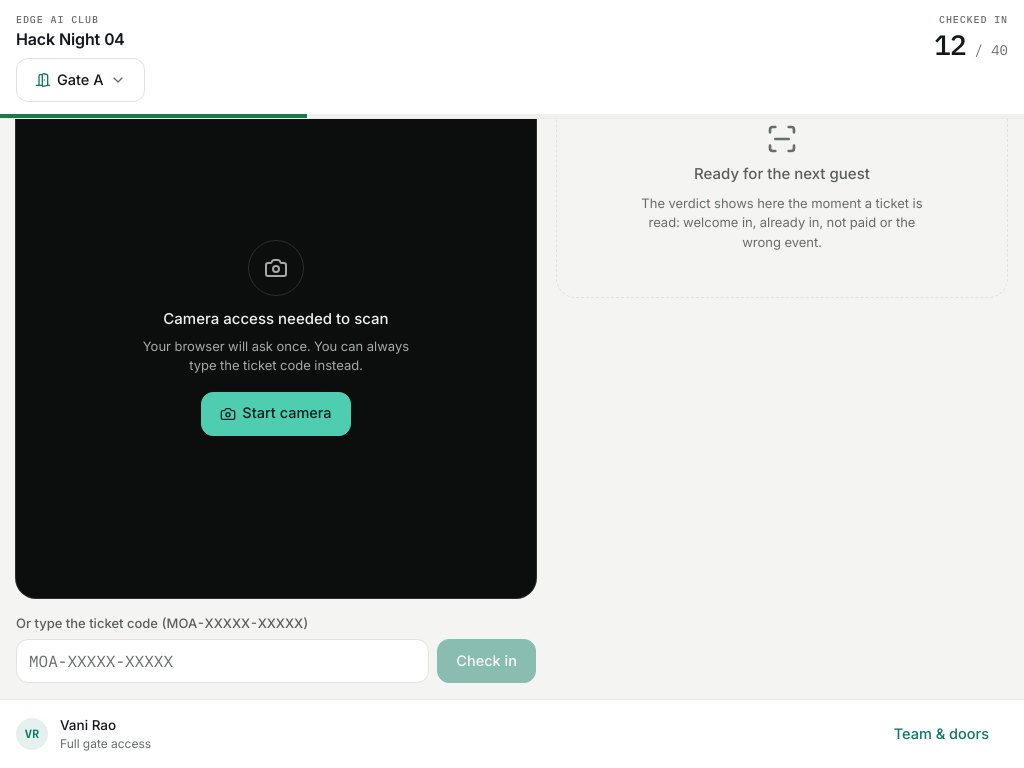
the gate console › will not admit on an admission number, but offers to check its holder in by hand
The image size is (1024, 768).
(page scrolled)
Step 1. Type "MOA-0042-E123" into the field labelled "Or type the ticket code (MOA-XXXXX-XXXXX)" → (223,661), box [16, 639, 429, 683]
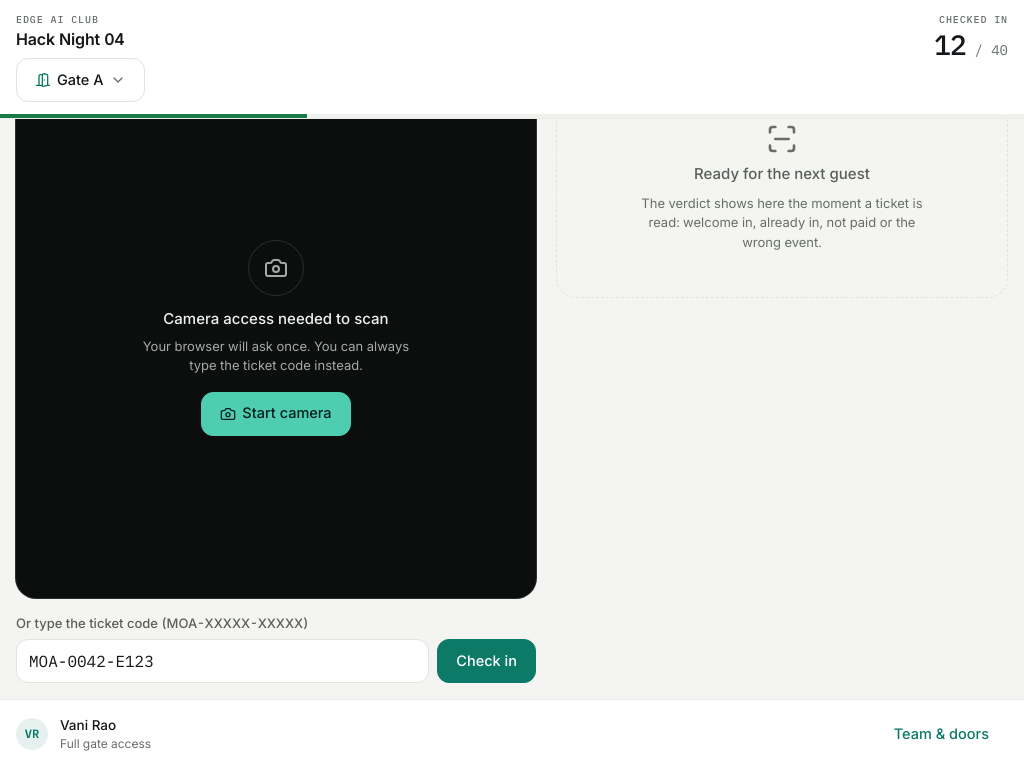
Step 2. Click the button "Check in" → (487,661), box [437, 639, 536, 683]
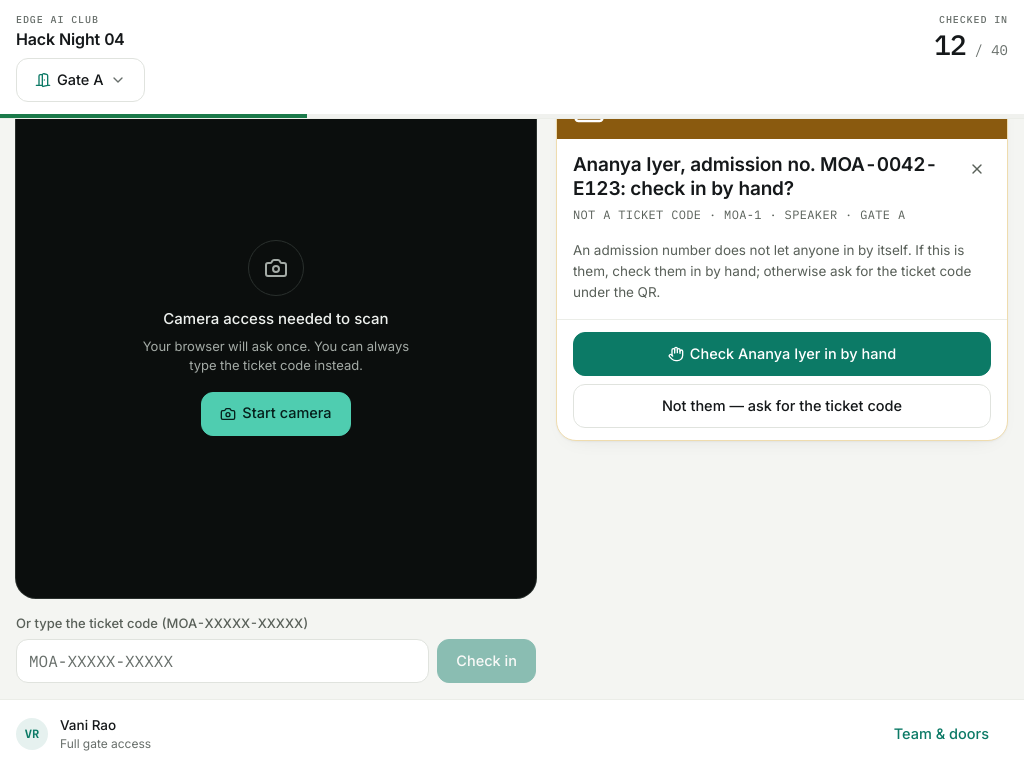
Check: the text "Ananya Iyer, admission no. MOA-0042-E123: check in by hand?" is shown, box [573, 153, 943, 202]
Check: the text "welcome in" is gone
Step 3. Click the button "Check Ananya Iyer in by hand" → (782,354), box [573, 332, 991, 376]
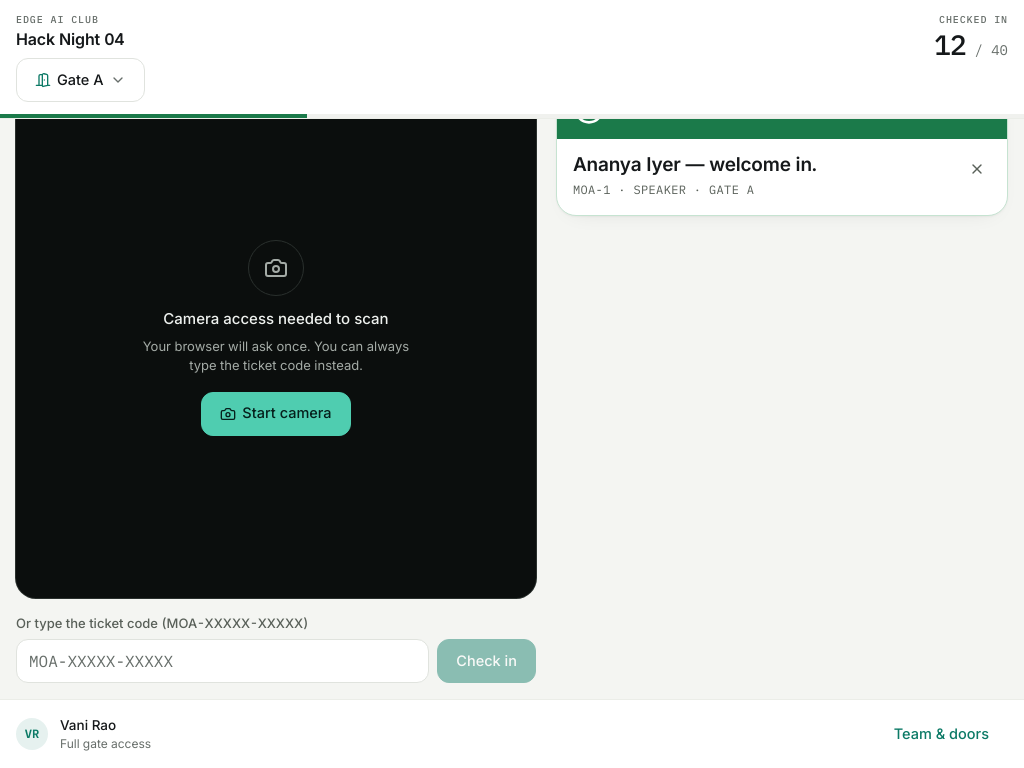
Check: the text "Welcome in" is shown, box [617, 92, 759, 124]
